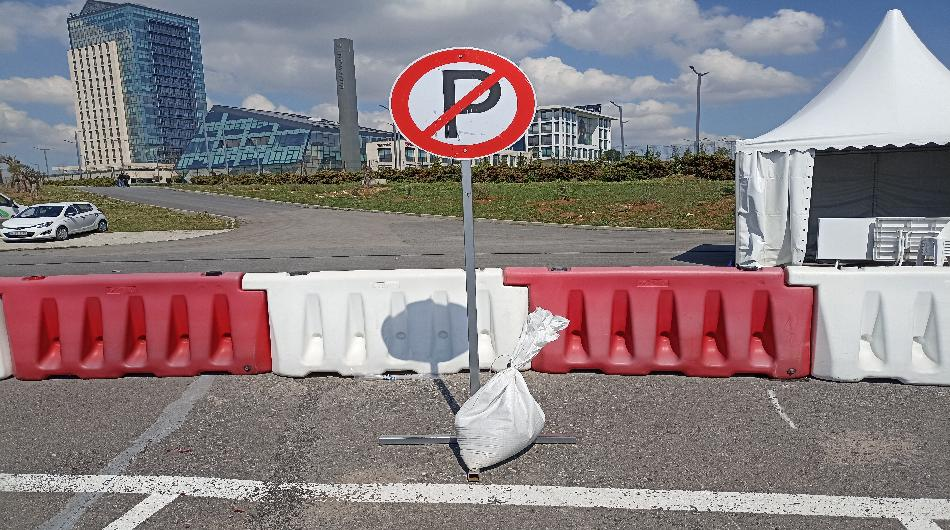park_yapilmaz_3: (385, 50, 552, 165)
